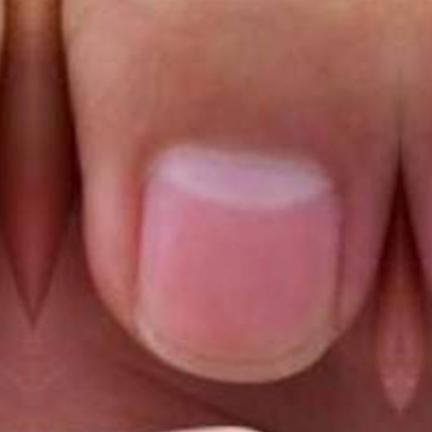Nail: (135, 145, 339, 383)
